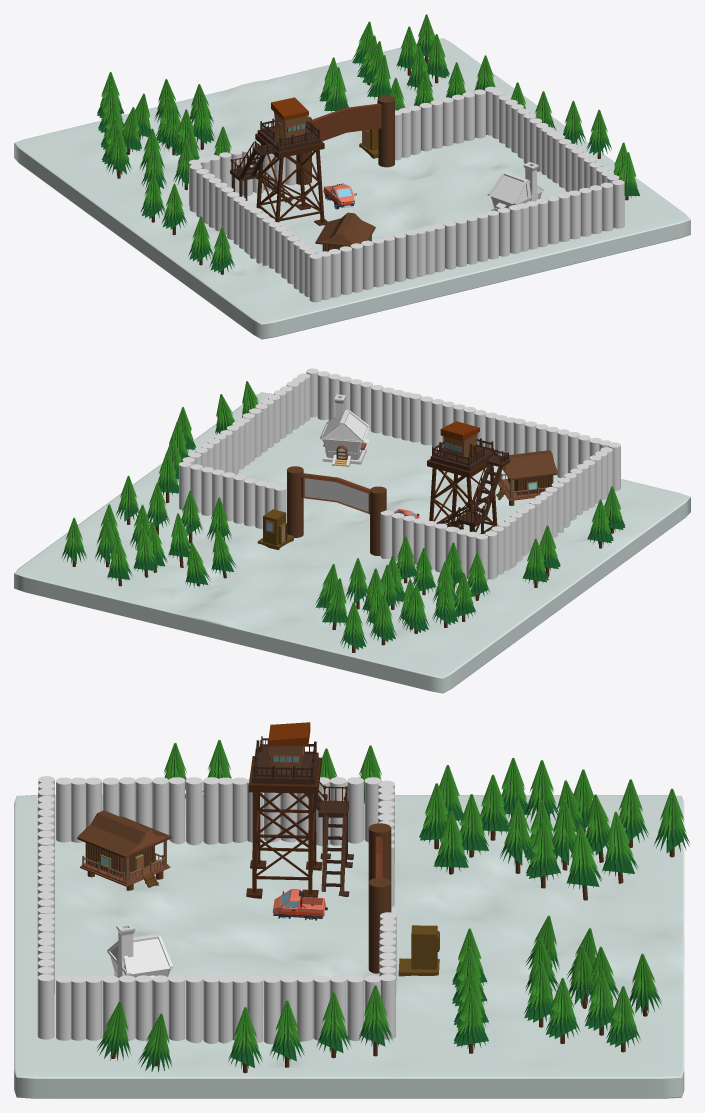
The model's file is Orange Wood Outpost.fbx.
3 views of the same model, one above another, from view 1: azimuth 30°, elevation 25°; view 2: azimuth 150°, elevation 25°; view 3: azimuth 270°, elevation 25° (orthographic). The views are drawn at different scales.
Visible parts, largest first — view 1: Cube, Cylinder.005, Cube.052, Cube.001, Cube.023, Cylinder.001, Cylinder.023, Cylinder.022, Cylinder.021, Cylinder.004, Cylinder.010, Cylinder.002 (+17 smaller); view 2: Cube, Cylinder.005, Cube.052, Cylinder.001, Cube.023, Cube.001, Cylinder.014, Cylinder.012, Cylinder.016, Cylinder.018, Cylinder.023, Cylinder (+18 smaller); view 3: Cube, Cylinder.005, Cube.052, Cylinder.001, Cylinder.015, Cube.023, Cylinder.020, Cylinder.021, Cylinder.017, Cylinder.004, Cylinder.014, Cylinder.011 (+18 smaller).
Part boxes in pixels (box(x1,y1,x2,y2)): Cube: box(14, 38, 690, 339); Cylinder.005: box(189, 86, 624, 302); Cube.052: box(230, 97, 327, 225); Cube.001: box(312, 103, 381, 141); Cube.023: box(487, 162, 543, 211); Cylinder.001: box(315, 212, 375, 251); Cylinder.023: box(140, 173, 187, 234); Cylinder.022: box(188, 216, 234, 274); Cylinder.021: box(563, 100, 611, 158); Cylinder.004: box(406, 34, 449, 91); Cylinder.010: box(161, 98, 215, 155); Cylinder.002: box(378, 95, 394, 167); Cube: box(14, 392, 690, 693); Cylinder.005: box(179, 368, 620, 580); Cube.052: box(427, 421, 510, 534); Cylinder.001: box(496, 450, 557, 505); Cube.023: box(320, 394, 369, 467); Cube.001: box(301, 473, 369, 514); Cylinder.014: box(340, 594, 396, 652); Cylinder.012: box(403, 577, 458, 633); Cylinder.016: box(107, 526, 158, 586); Cylinder.018: box(185, 529, 236, 588); Cylinder.023: box(522, 525, 560, 587); Cylinder: box(116, 475, 169, 534); Cube: box(14, 795, 684, 1098); Cylinder.005: box(37, 776, 396, 1044); Cube.052: box(246, 722, 353, 898); Cylinder.001: box(77, 810, 171, 890); Cylinder.015: box(566, 811, 638, 900); Cube.023: box(107, 923, 173, 978); Cylinder.020: box(316, 985, 392, 1058); Cylinder.021: box(228, 1000, 304, 1073); Cylinder.017: box(584, 969, 640, 1052); Cylinder.004: box(524, 961, 579, 1043); Cylinder.014: box(618, 779, 689, 857); Cylinder.011: box(434, 794, 488, 874).
Size of the model in its own units: 1552 by 437 by 1555.
